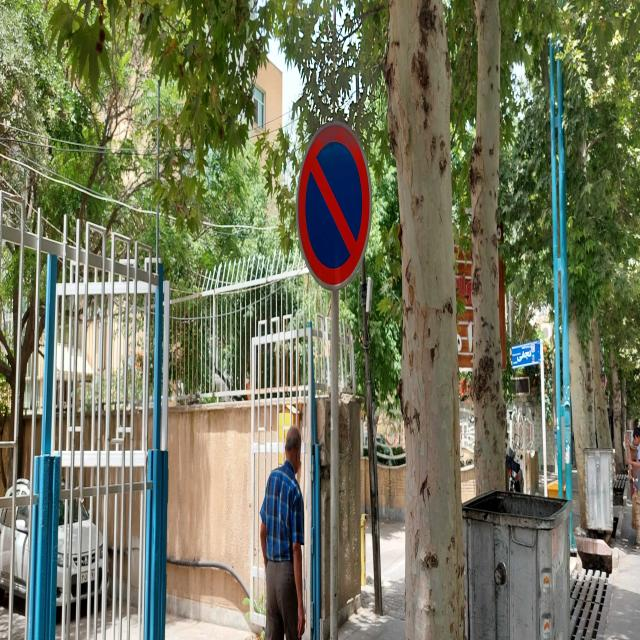forb_stopping: (293, 119, 371, 290)
